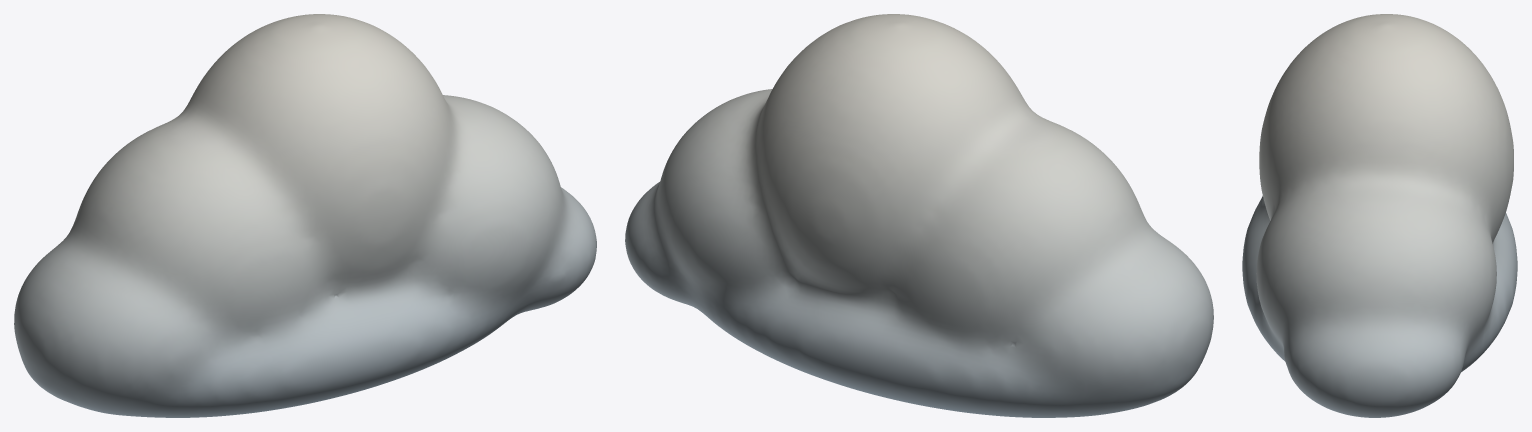
The model's file is fw_cloud_cumulus.hi.glb.
3 views of the same model, side by side, from view 1: azimuth 30°, elevation 25°; view 2: azimuth 150°, elevation 25°; view 3: azimuth 270°, elevation 25° (orthographic). The views are drawn at different scales.
Parts seen in each view (by area): view 1: body; view 2: body; view 3: body.
Boxes of the visible parts, x1=… form: body: x1=14, y1=14, x2=596, y2=417; body: x1=625, y1=14, x2=1213, y2=417; body: x1=1242, y1=14, x2=1517, y2=417.
Size of the model in its own units: 3.64 by 2.16 by 1.67.
